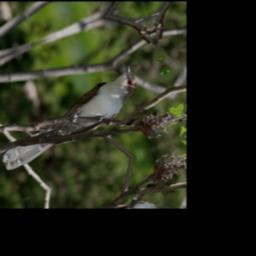Cuckoo: (0, 59, 151, 174)
